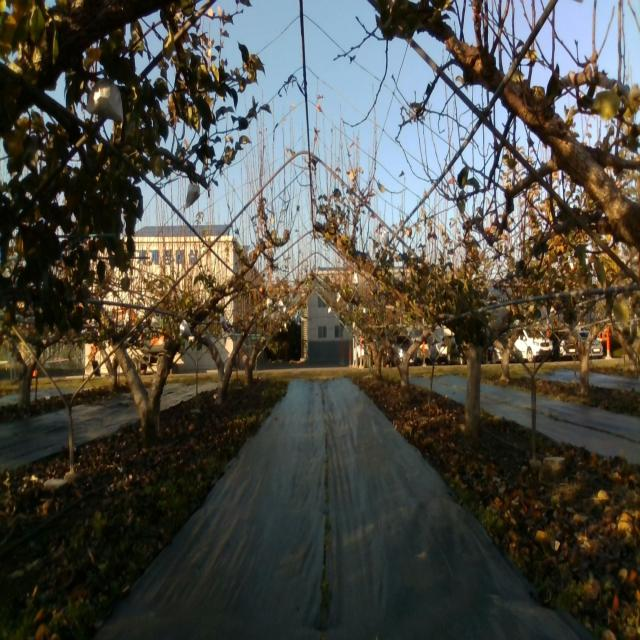pearbags: (86, 78, 125, 126), (186, 184, 200, 208)
